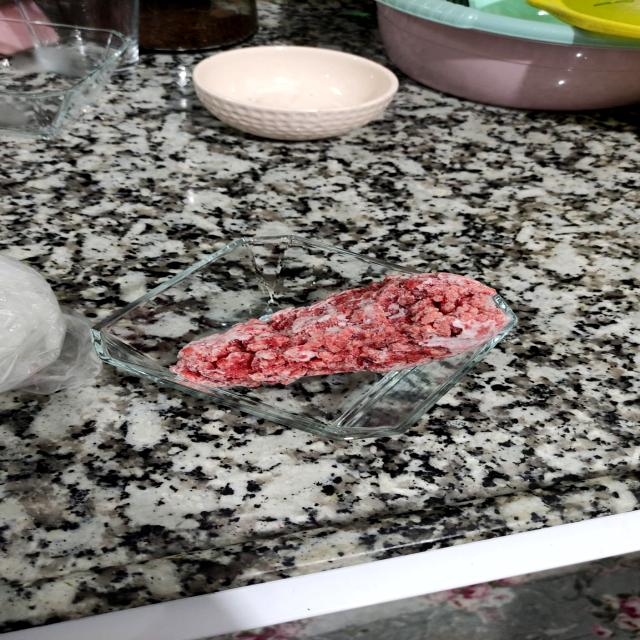ground meat: (159, 258, 529, 397)
